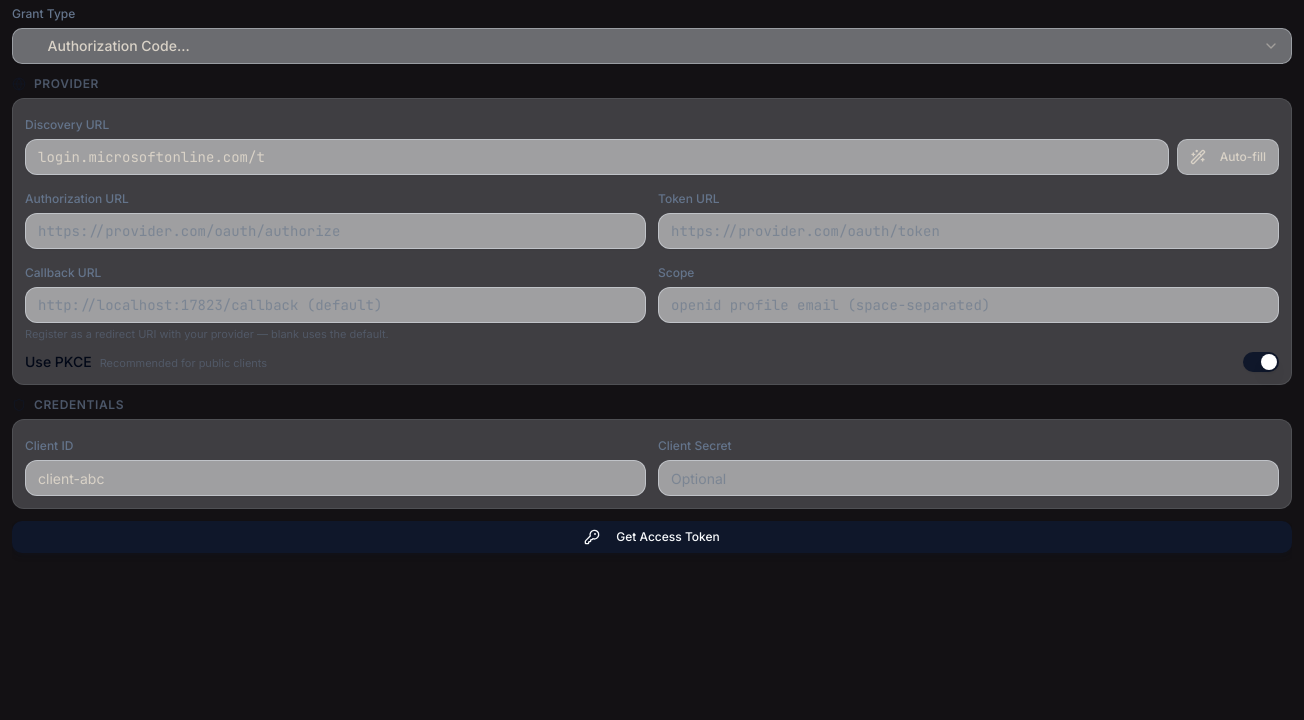
Scenario: OAuthConfigurator Entra v1.0 handling › warns when discovery lands on the v1.0 document
This screenshot has width=1304, height=720.
Click the button with test id "oidc-discover-button": (1228, 157) top-left (1177, 139), bottom-right (1279, 175)
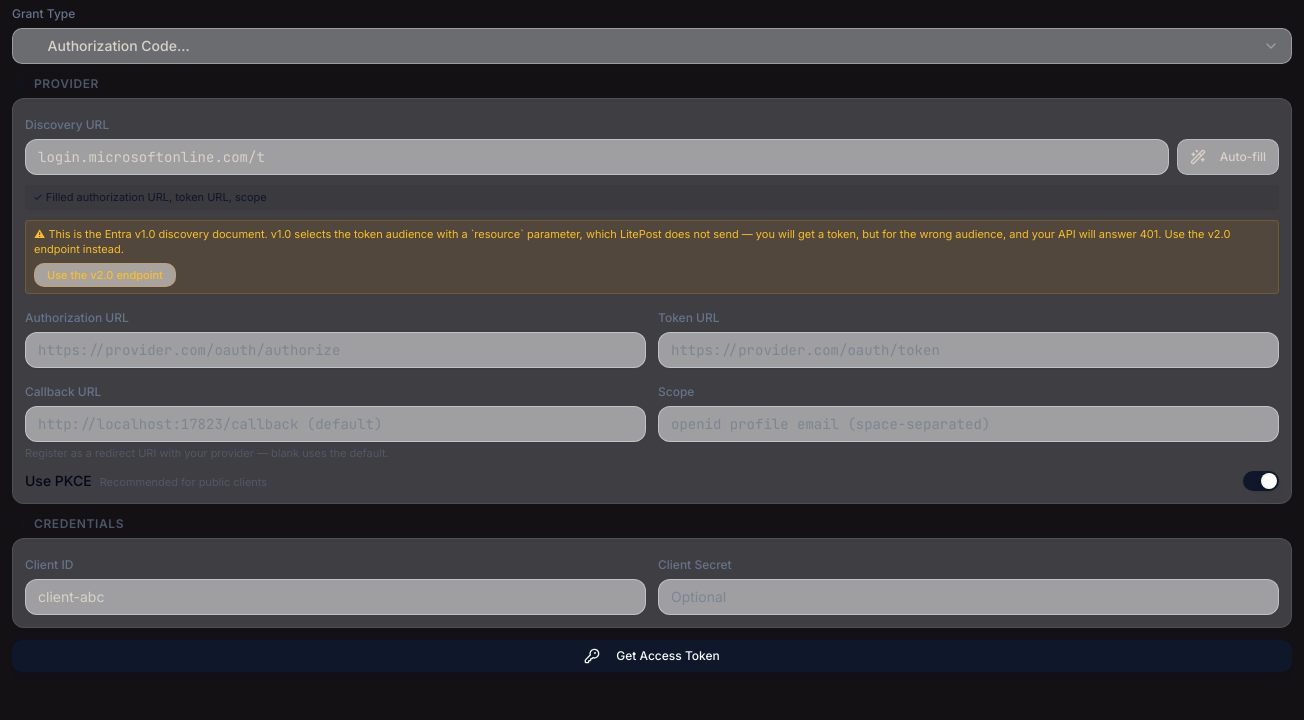
Check: the button with test id "use-entra-v2-button" is shown, box top-left (34, 263), bottom-right (176, 287)
Check: the text "Entra v1.0 discovery document" is shown, box top-left (34, 226), bottom-right (1230, 256)
